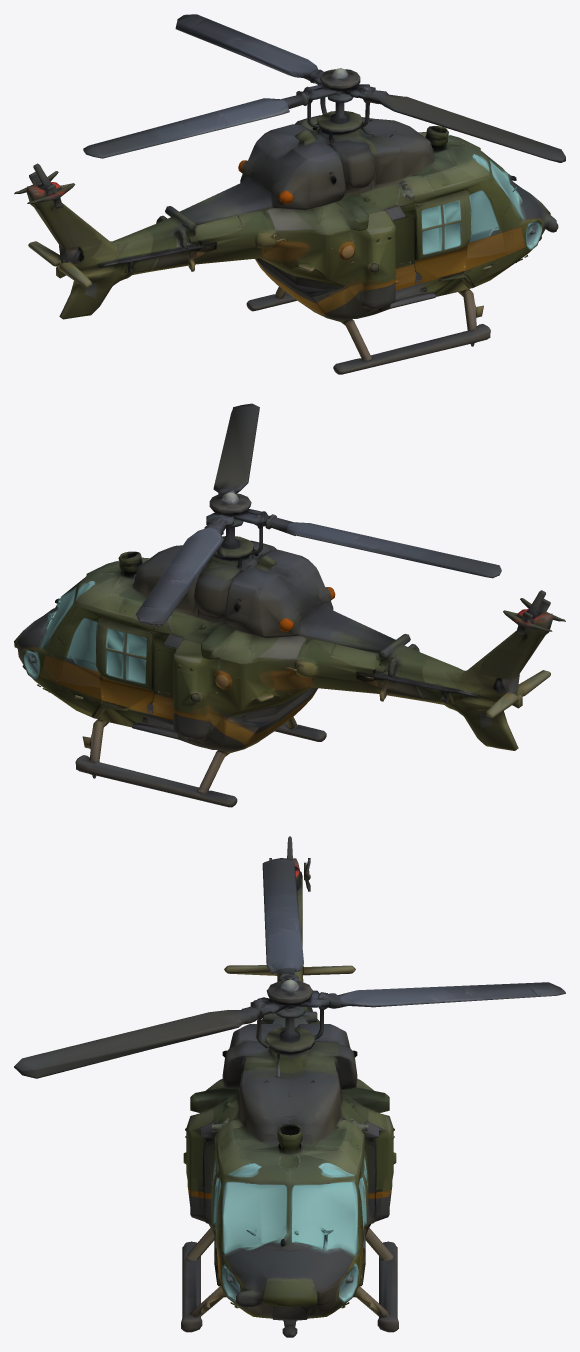
The model's file is rotor-command-helicopter.glb.
3 renders of one model, top to bottom at view 1: azimuth 30°, elevation 25°; view 2: azimuth 150°, elevation 25°; view 3: azimuth 270°, elevation 25°, orthographic. The views are drawn at different scales.
Visible parts, largest first — view 1: tripo_node_178be899-ba10-4554-84f0-4bf6c224ff37; view 2: tripo_node_178be899-ba10-4554-84f0-4bf6c224ff37; view 3: tripo_node_178be899-ba10-4554-84f0-4bf6c224ff37.
Boxes of the visible parts, x1=… form: tripo_node_178be899-ba10-4554-84f0-4bf6c224ff37: x1=14, y1=14, x2=565, y2=374; tripo_node_178be899-ba10-4554-84f0-4bf6c224ff37: x1=14, y1=403, x2=565, y2=807; tripo_node_178be899-ba10-4554-84f0-4bf6c224ff37: x1=14, y1=836, x2=565, y2=1337.
Size of the model in its own units: 9.26 by 4.5 by 7.52.
1 material, 1 textured.
